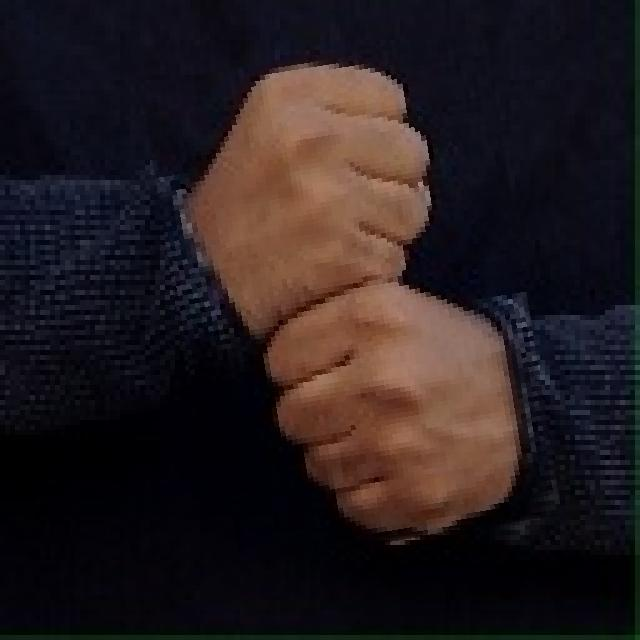G: (158, 41, 543, 558)
